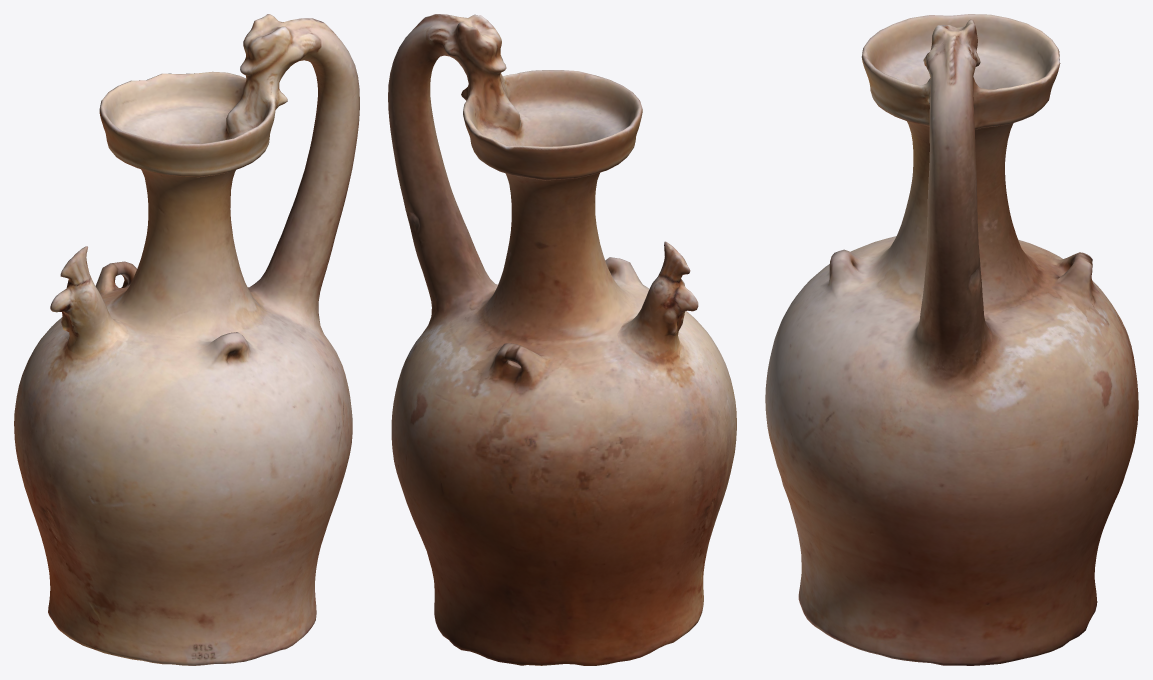
File: BinhAmphora.gltf
The picture shows the model from 3 angles, left to right: view 1: azimuth 30°, elevation 25°; view 2: azimuth 150°, elevation 25°; view 3: azimuth 270°, elevation 25°; orthographic projection. The views are drawn at different scales.
Visible parts, largest first — view 1: BinhAmphora1_SeamsColor.001; view 2: BinhAmphora1_SeamsColor.001; view 3: BinhAmphora1_SeamsColor.001.
Boxes of the visible parts, x1,y1,x2,y2 form: BinhAmphora1_SeamsColor.001: (14, 14, 359, 665); BinhAmphora1_SeamsColor.001: (388, 14, 736, 665); BinhAmphora1_SeamsColor.001: (765, 14, 1138, 665).
Bounding box in the file's own units: 15.03 × 25.7 × 13.68.
1 material, 1 textured.
